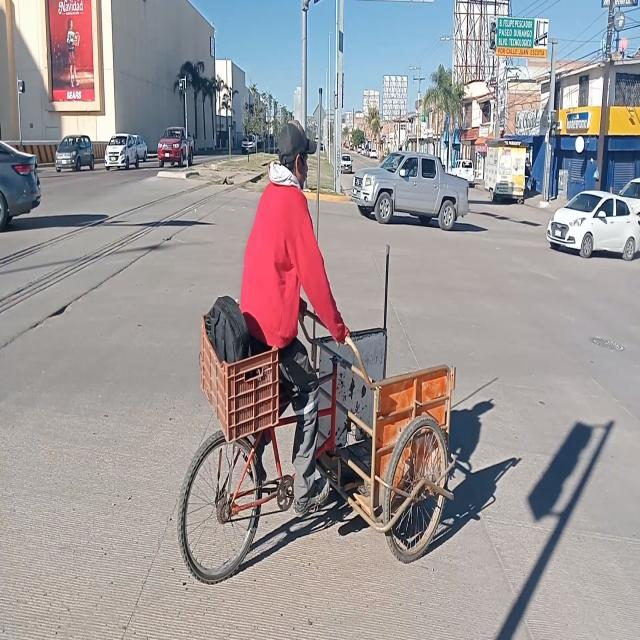Auto: (348, 151, 469, 230), (546, 191, 640, 265), (156, 121, 194, 170), (56, 133, 96, 175), (105, 132, 138, 169), (452, 156, 475, 185), (132, 135, 149, 161), (339, 151, 355, 175)
